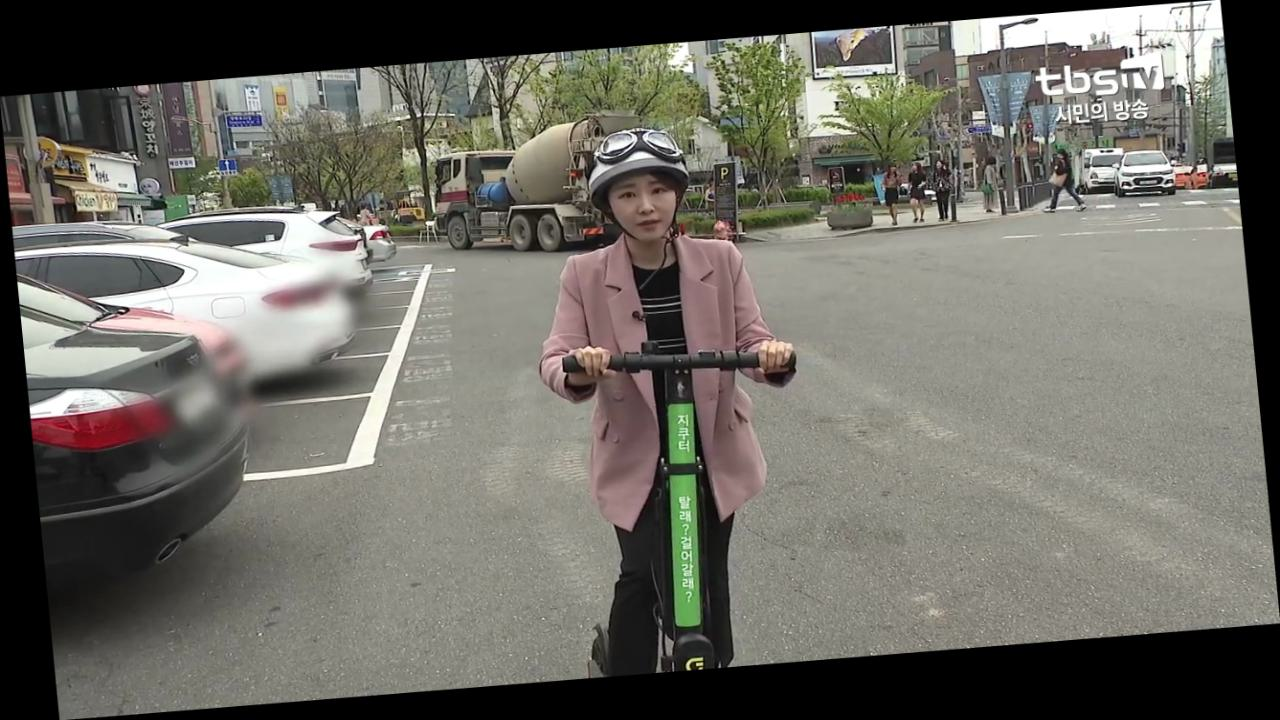helmet: (514, 115, 829, 680)
